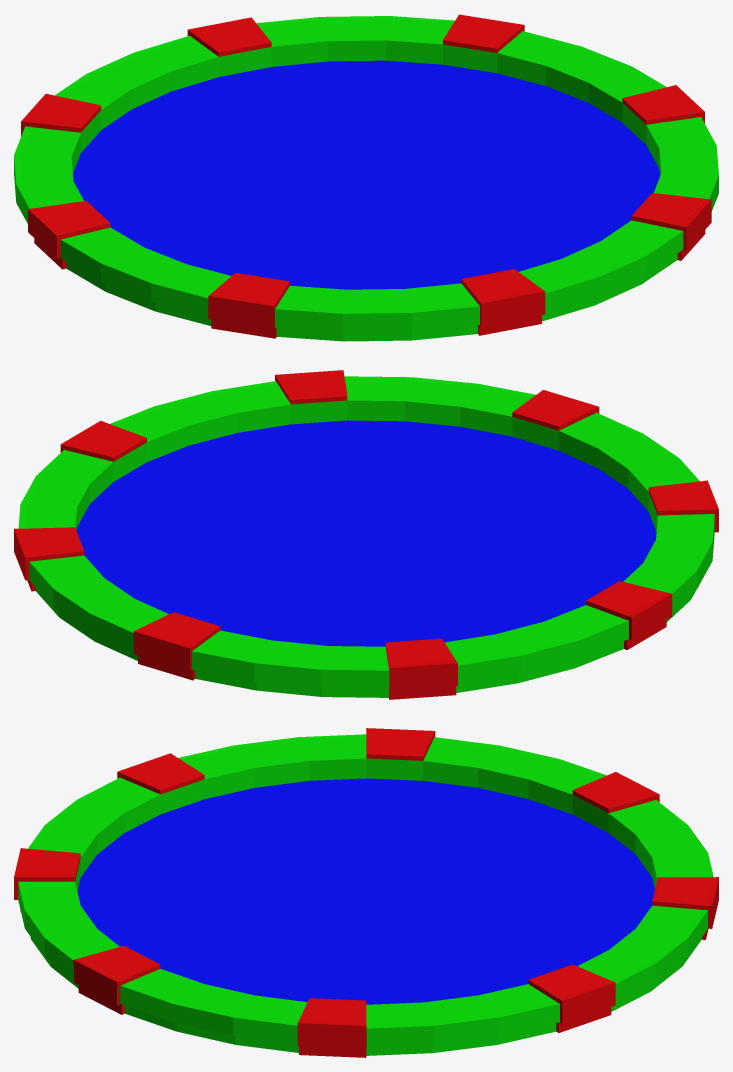
File: circleplanter1.fbx
3 renders of one model, top to bottom at view 1: azimuth 30°, elevation 25°; view 2: azimuth 150°, elevation 25°; view 3: azimuth 270°, elevation 25°, orthographic.
Parts seen in each view (by area): view 1: Cylinder; view 2: Cylinder; view 3: Cylinder.
Boxes of the visible parts, x1,y1,x2,y2 form: Cylinder: (14,14,718,341); Cylinder: (14,370,718,699); Cylinder: (14,728,718,1057).
Bounding box in the file's own units: 782 × 42.31 × 782.
